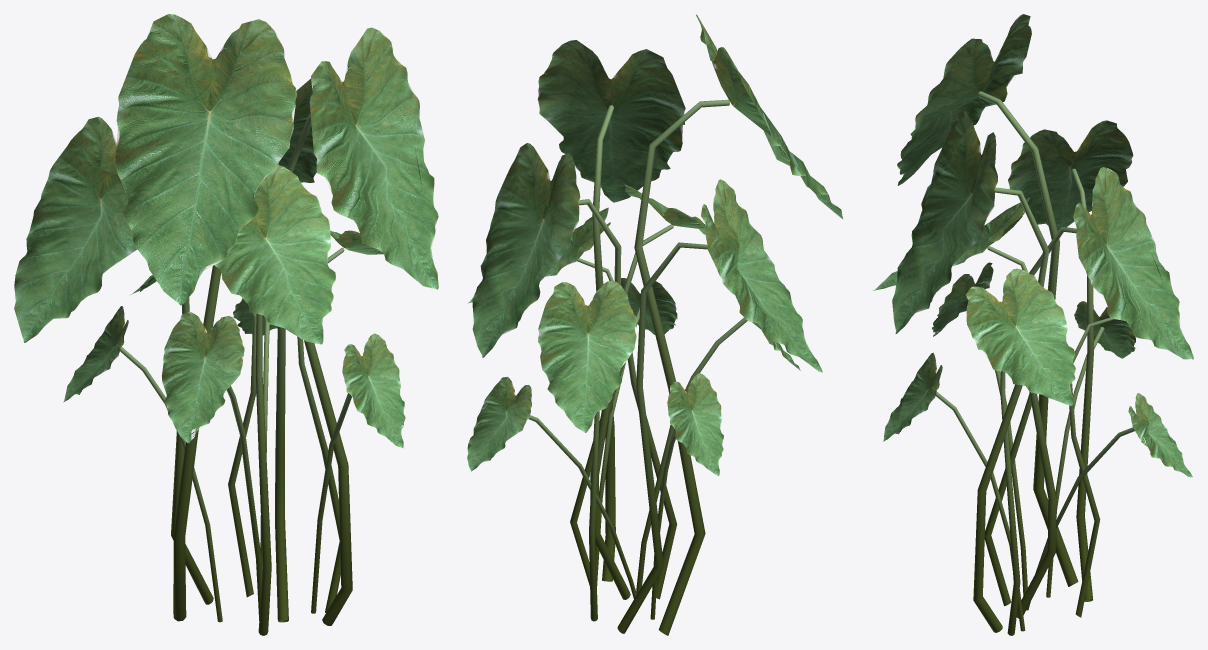
The model's file is ElephantEar1.fbx.
The picture shows the model from 3 angles, left to right: view 1: azimuth 30°, elevation 25°; view 2: azimuth 150°, elevation 25°; view 3: azimuth 270°, elevation 25°; orthographic projection. The views are drawn at different scales.
Parts seen in each view (by area): view 1: ElephantLeaf, Veins; view 2: ElephantLeaf, Veins; view 3: ElephantLeaf, Veins.
Part boxes in pixels (x1,y1,x2,y2): ElephantLeaf: [14, 14, 438, 447]; Veins: [114, 114, 352, 635]; ElephantLeaf: [467, 14, 843, 475]; Veins: [528, 99, 747, 635]; ElephantLeaf: [873, 14, 1193, 477]; Veins: [928, 91, 1134, 635].
Size of the model in its own units: 54.93 by 87.46 by 45.67.
